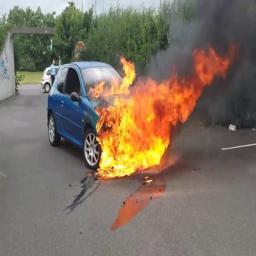fire: (89, 43, 235, 180)
